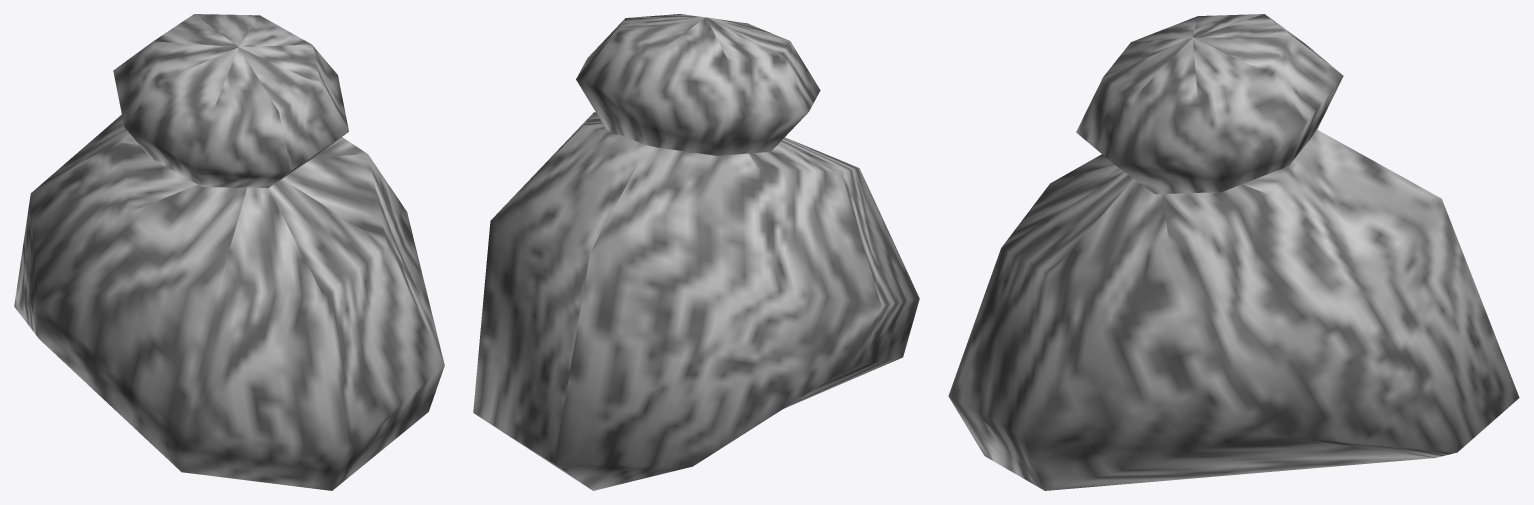
File: Wig_Kate_Hair_BunCurly.fbx
3 views of the same model, side by side, from view 1: azimuth 30°, elevation 25°; view 2: azimuth 150°, elevation 25°; view 3: azimuth 270°, elevation 25° (orthographic). The views are drawn at different scales.
Visible parts, largest first — view 1: BoxOfJars003; view 2: BoxOfJars003; view 3: BoxOfJars003.
Part boxes in pixels (box(x1,y1,x2,y2)): BoxOfJars003: box(14, 14, 444, 490); BoxOfJars003: box(473, 14, 919, 490); BoxOfJars003: box(948, 14, 1519, 490).
Size of the model in its own units: 12.4 by 12.13 by 14.93.
